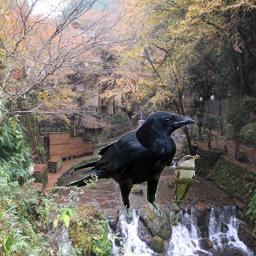Crow: (64, 111, 198, 217)
Cuckoo: (171, 155, 200, 226)
